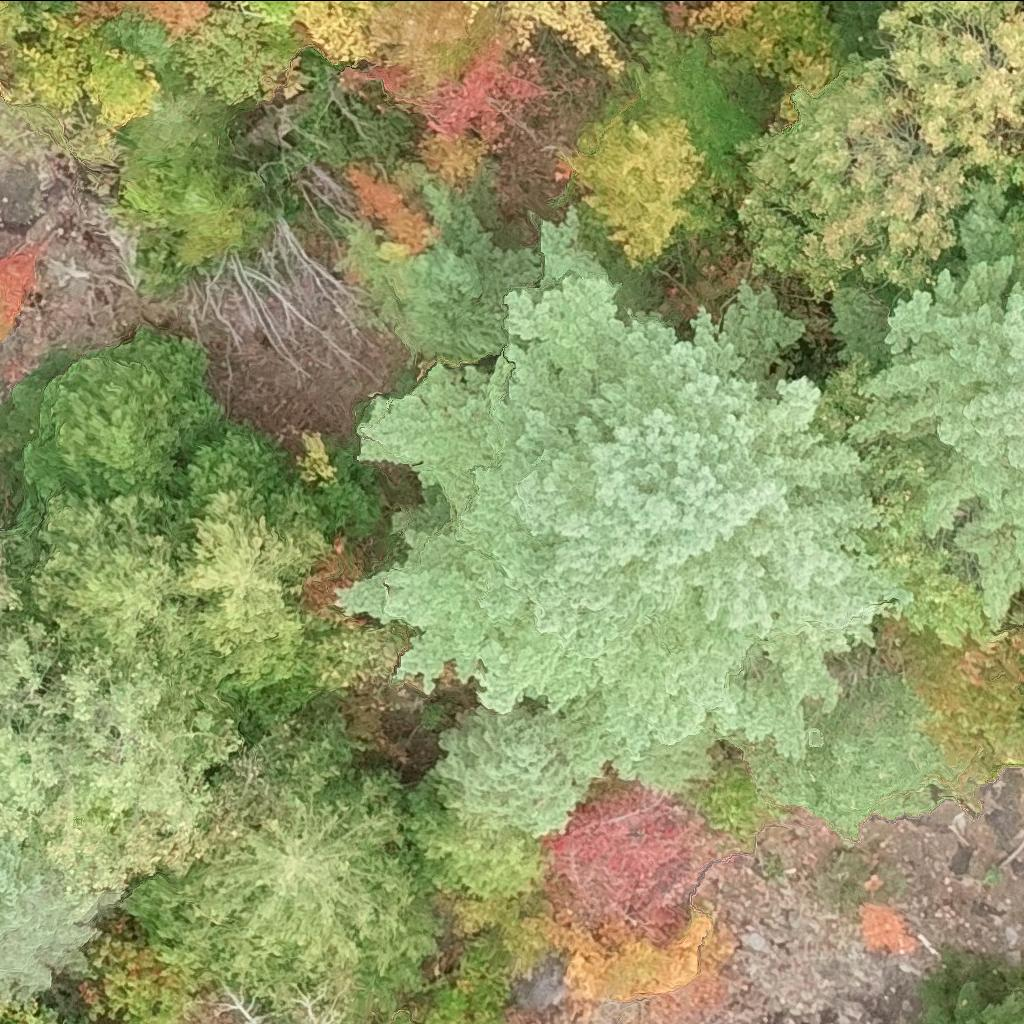crown: (335, 165, 903, 793), (120, 714, 436, 1011), (838, 200, 1023, 623), (0, 647, 242, 920), (743, 59, 984, 307), (139, 490, 366, 752), (811, 363, 995, 649), (562, 47, 766, 263), (0, 327, 224, 516), (0, 492, 206, 697), (820, 591, 1023, 795), (537, 769, 738, 949), (751, 678, 950, 838), (880, 0, 1023, 181), (160, 419, 382, 533), (437, 696, 612, 835), (335, 43, 560, 145), (402, 764, 547, 899), (0, 833, 117, 1000), (2, 11, 162, 129), (690, 0, 867, 99), (113, 158, 273, 266), (112, 61, 230, 179), (369, 0, 512, 97), (165, 9, 291, 108), (80, 934, 201, 1023), (503, 0, 619, 77), (919, 954, 1023, 1023), (72, 0, 214, 44), (287, 0, 377, 63), (0, 620, 51, 728), (94, 10, 174, 68), (0, 244, 44, 342), (0, 990, 58, 1023), (0, 546, 24, 611), (1002, 192, 1023, 247), (388, 1009, 415, 1023), (1019, 141, 1023, 190), (471, 0, 489, 8)
